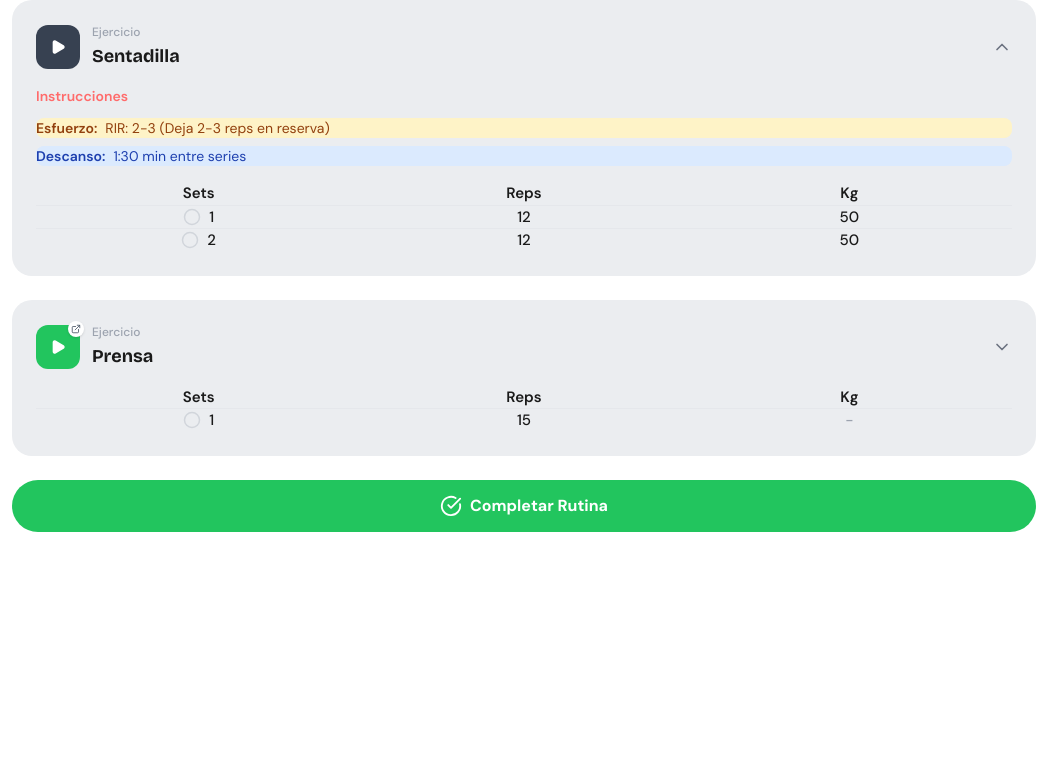
Test: WorkoutContent › Set completion › should toggle set completion on row click
Check: the text "1" is shown, box [209, 206, 214, 226]
What coordinates should you click on to do the following:
click the text "1"
I would click on:
 (524, 217)
Its box is [36, 206, 1012, 229].
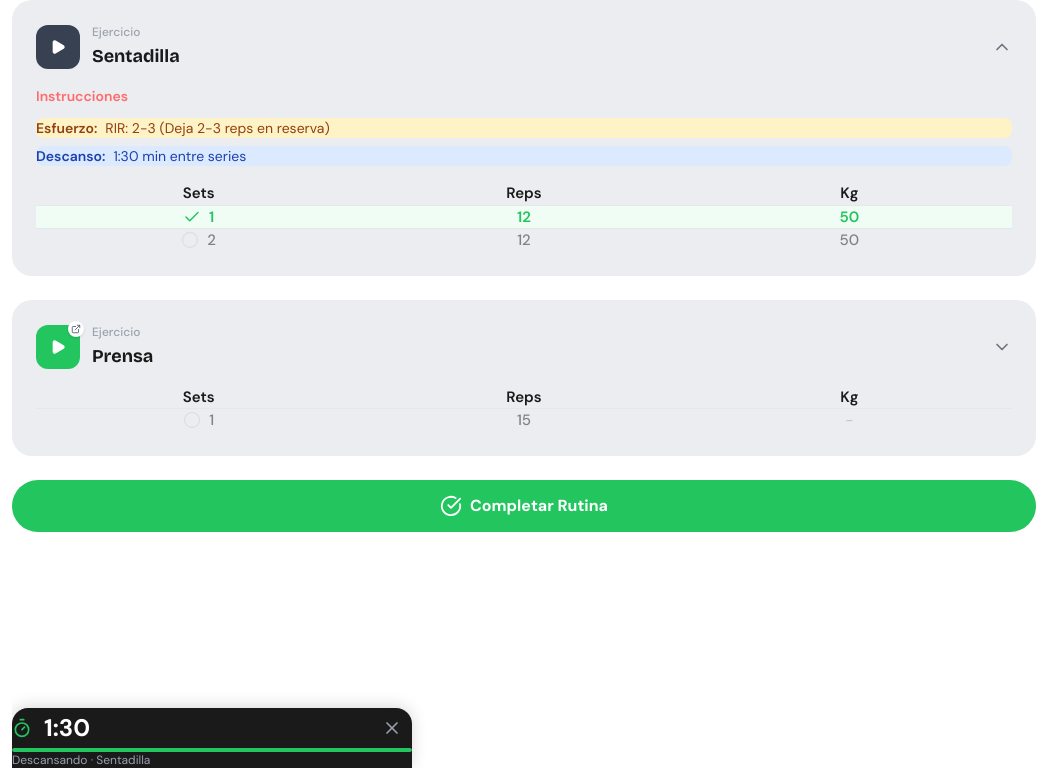
Check: the icon with id "22C55E" is shown, box [183, 208, 201, 226]
